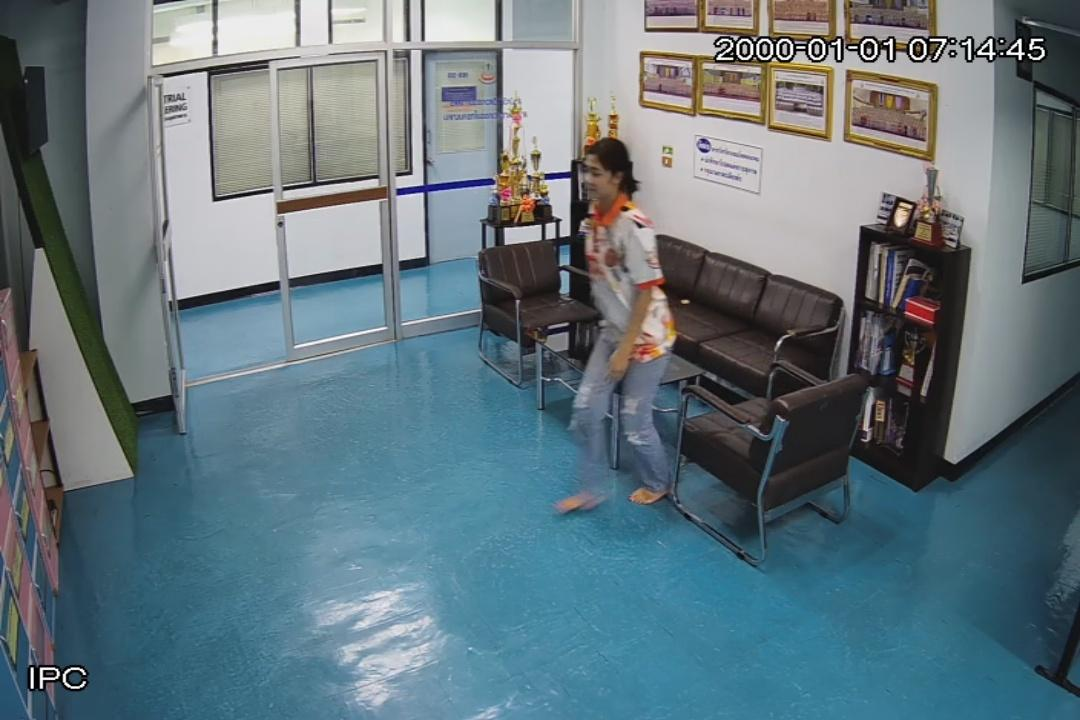normal: (554, 137, 677, 513)
